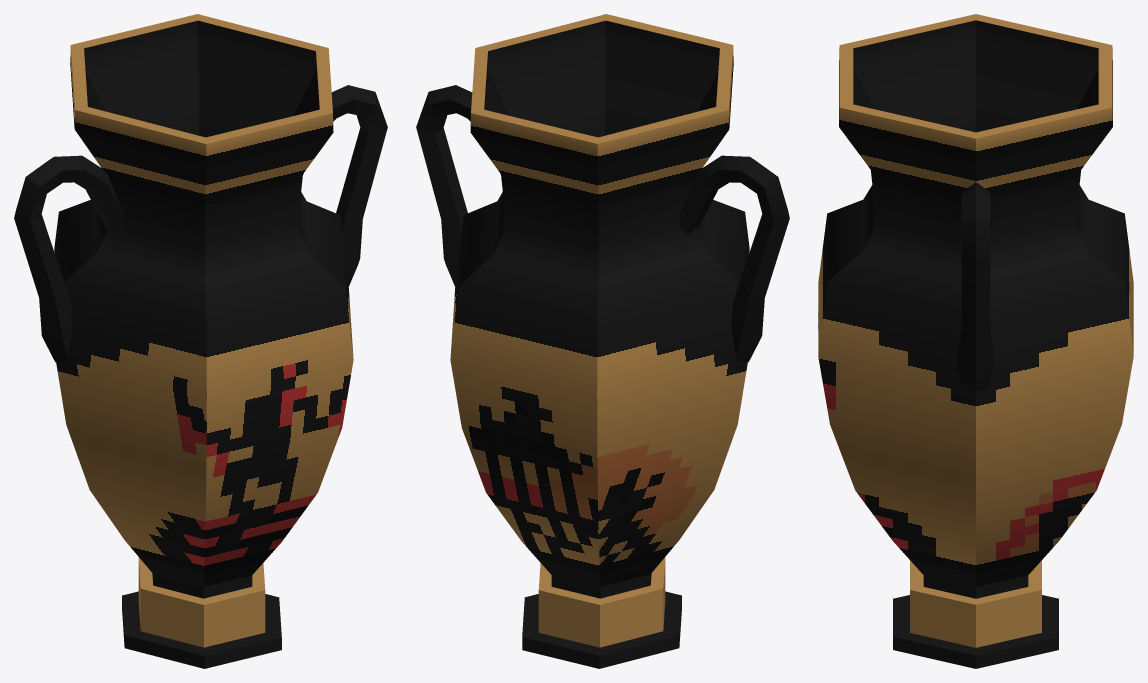
Rendered from gowvase.fbx.
The picture shows the model from 3 angles, left to right: view 1: azimuth 30°, elevation 25°; view 2: azimuth 150°, elevation 25°; view 3: azimuth 270°, elevation 25°; orthographic projection.
Parts seen in each view (by area): view 1: pCylinder12; view 2: pCylinder12; view 3: pCylinder12.
Boxes of the visible parts, bbox=[...] form: pCylinder12: bbox=[14, 14, 387, 668]; pCylinder12: bbox=[416, 14, 789, 668]; pCylinder12: bbox=[818, 14, 1133, 668].
Size of the model in its own units: 20.53 by 28.89 by 14.9.
